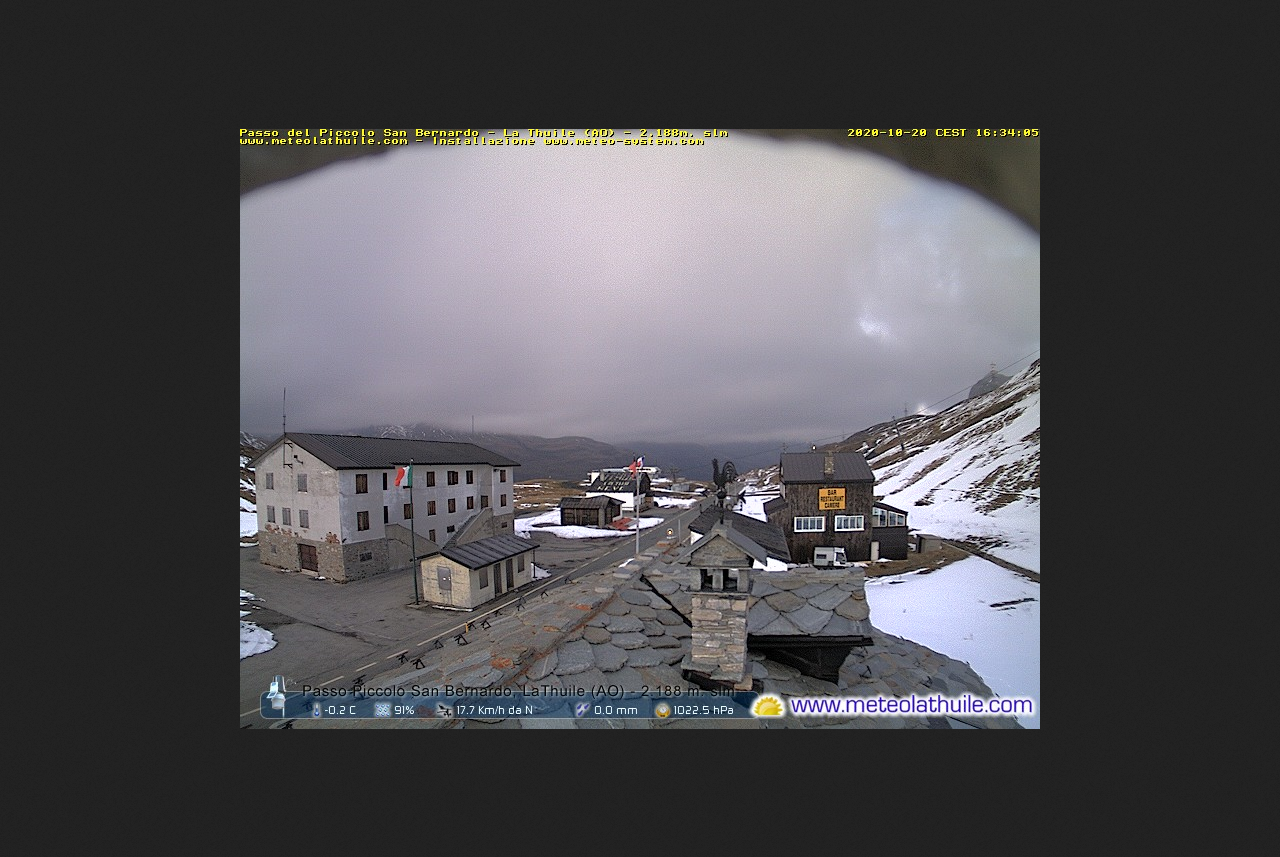yes: (396, 460, 414, 490)
